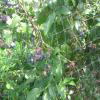Blueberry leaf: (43, 13, 56, 37), (52, 41, 70, 58), (61, 75, 78, 91), (54, 5, 70, 19), (9, 14, 22, 30), (55, 59, 63, 85), (44, 69, 54, 89), (19, 21, 30, 39), (27, 87, 43, 99), (4, 30, 13, 49), (48, 52, 60, 66), (48, 84, 58, 99), (22, 76, 37, 85), (58, 81, 64, 96)
